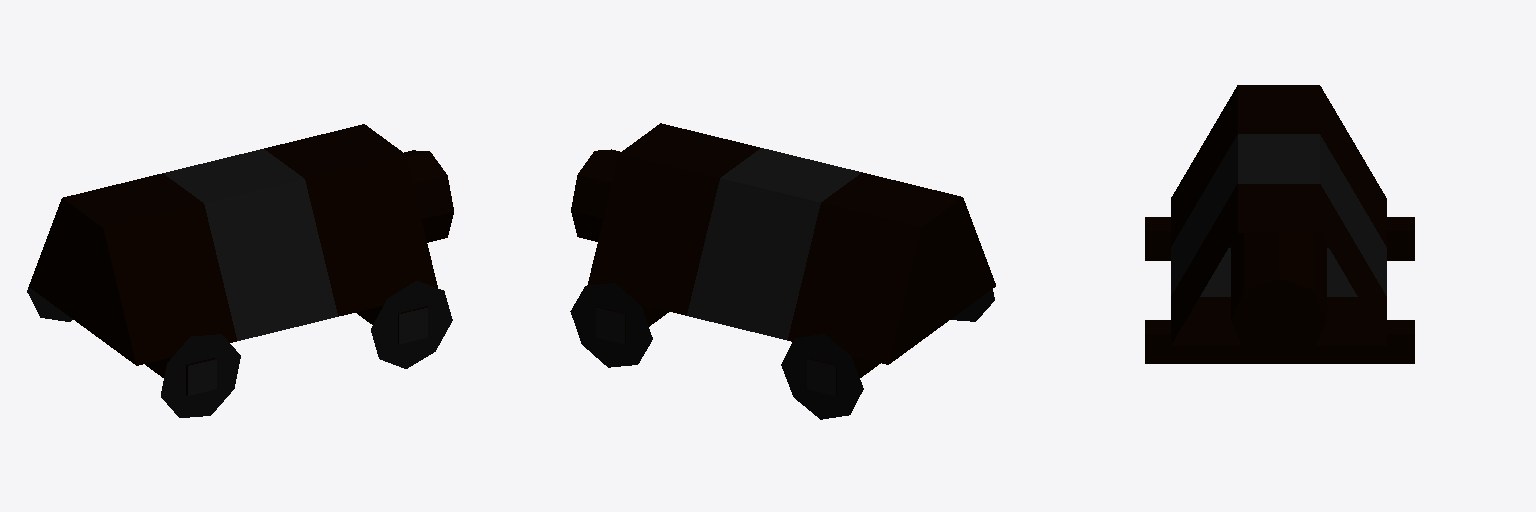
Rendered from batteringram2.obj.
The picture shows the model from 3 angles: view 1: azimuth 30°, elevation 25°; view 2: azimuth 150°, elevation 25°; view 3: azimuth 270°, elevation 25°; orthographic projection.
Visible parts, largest first — view 1: Cube, Plane.003, Plane.002, Cube.002, Cube.001, Plane.001; view 2: Cube, Plane.001, Plane, Cube.002, Cube.001, Plane.002; view 3: Cube, Cube.001, Cube.002.
Boxes of the visible parts, x1,y1,x2,y2 form: Cube: [29, 124, 453, 365]; Plane.003: [371, 281, 452, 368]; Plane.002: [161, 334, 240, 417]; Cube.002: [145, 357, 216, 395]; Cube.001: [356, 306, 427, 344]; Plane.001: [27, 287, 72, 321]; Cube: [571, 123, 995, 364]; Plane.001: [781, 334, 863, 419]; Plane: [570, 283, 652, 367]; Cube.002: [807, 356, 880, 395]; Cube.001: [596, 305, 668, 344]; Plane.002: [951, 289, 994, 321]; Cube: [1171, 85, 1386, 362]; Cube.001: [1145, 320, 1414, 363]; Cube.002: [1145, 217, 1414, 260].
Bounding box in the file's own units: 8.85 × 4.18 × 5.96.